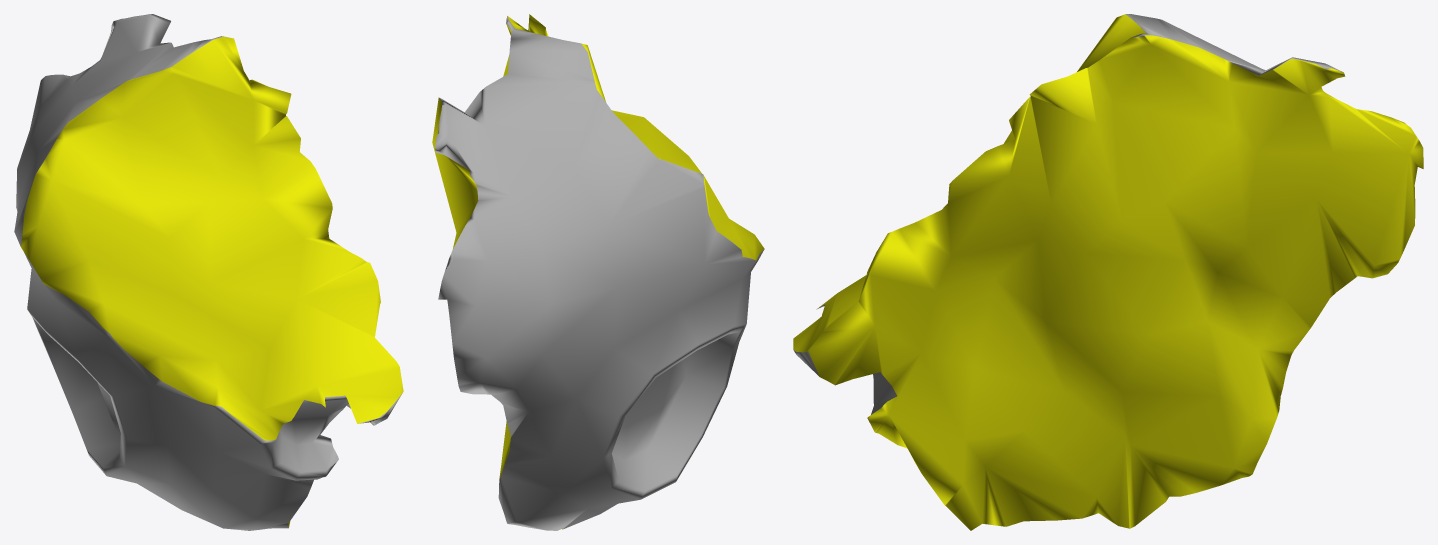
Rendered from Asteroid_01_shard_06.fbx.
3 renders of one model, left to right at view 1: azimuth 30°, elevation 25°; view 2: azimuth 150°, elevation 25°; view 3: azimuth 270°, elevation 25°, orthographic. The views are drawn at different scales.
Visible parts, largest first — view 1: Asteroid_01_shard_06; view 2: Asteroid_01_shard_06; view 3: Asteroid_01_shard_06.
Part boxes in pixels (bbox=[...]): Asteroid_01_shard_06: bbox=[14, 14, 403, 530]; Asteroid_01_shard_06: bbox=[432, 14, 764, 530]; Asteroid_01_shard_06: bbox=[793, 14, 1423, 530].
Size of the model in its own units: 394 by 685 by 762.
